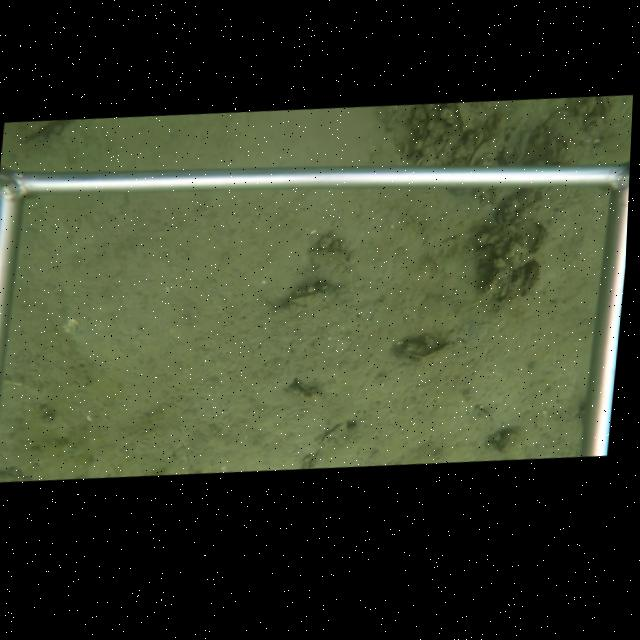Oyster-Closed: (392, 339, 460, 366), (308, 249, 354, 273), (465, 139, 495, 165), (496, 264, 513, 303)
